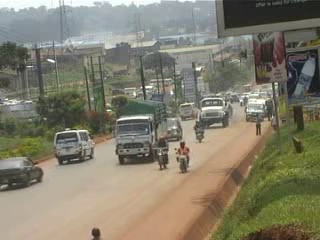Car: (0, 153, 46, 188), (166, 115, 185, 139)
Motorcycle: (151, 133, 170, 173), (173, 140, 192, 174), (190, 118, 206, 144)
